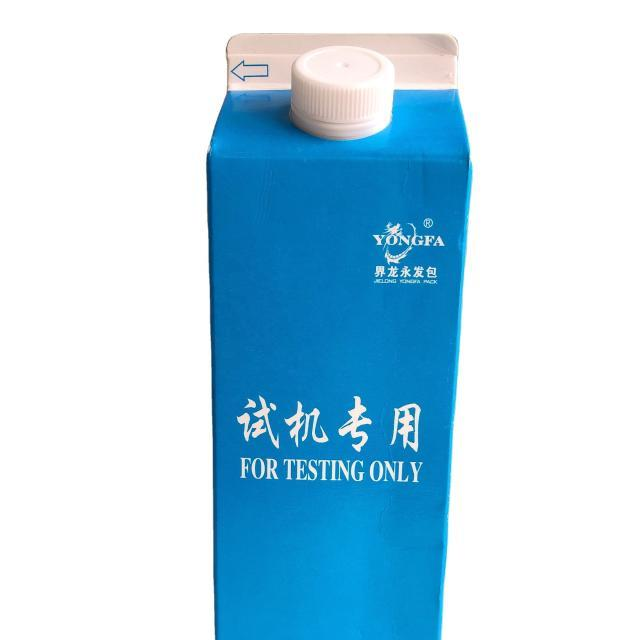Carton: (195, 21, 498, 640)
